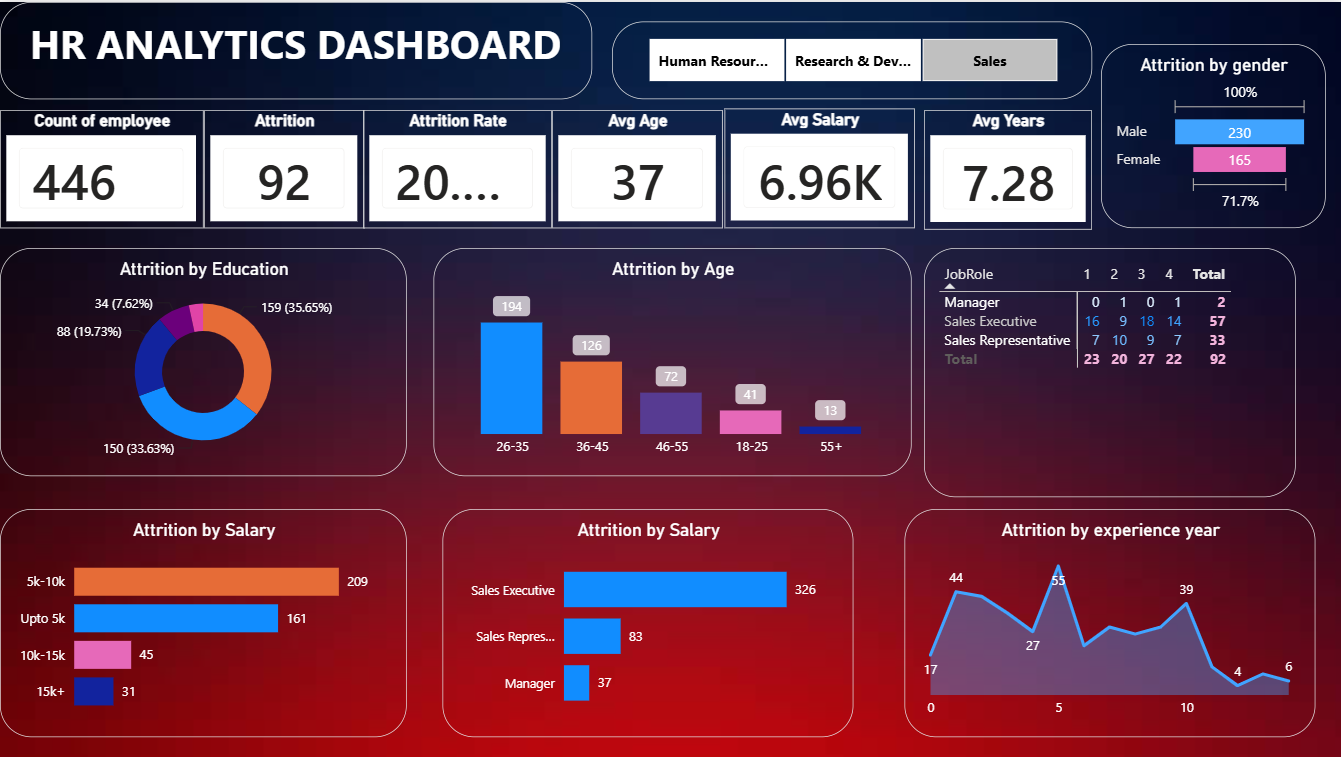

The dashboard page shown, as its layout file describes it:
{"tool":"powerbi","page":{"name":"Page 1","canvas":[1280,720],"ordinal":0},"visuals":[{"type":"cardVisual","title":"Count of employee","fields":{"Data":["CountNonNull(HR_Analytics.EmpID)"]},"box":[0,102.5,193.8,112.5],"z":0},{"type":"cardVisual","title":"Attrition","fields":{"Data":["Sum(HR_Analytics.attrition_count)"]},"box":[193.8,102.5,152.5,112.5],"z":1000},{"type":"cardVisual","title":"Attrition Rate","fields":{"Data":["HR_Analytics.attrition_rate","HR_Analytics.attrition_rate"]},"box":[346.2,102.5,180,112.5],"z":2000},{"type":"cardVisual","title":"Avg Age","fields":{"Data":["Avg(HR_Analytics.Age)"]},"box":[526.2,102.5,162.5,112.5],"z":3000},{"type":"cardVisual","title":"Avg Salary","fields":{"Data":["Avg(HR_Analytics.MonthlyIncome)"]},"box":[690,101.2,181.2,113.8],"z":4000},{"type":"cardVisual","title":"Avg Years","fields":{"Data":["Avg(HR_Analytics.YearsAtCompany)"]},"box":[880,102.5,160,113.8],"z":5000},{"type":"donutChart","title":"Attrition by Education","fields":{"Category":["HR_Analytics.EducationField"],"Y":["CountNonNull(HR_Analytics.Attrition)"]},"box":[0,233.8,387.5,217.5],"z":6000},{"type":"lineStackedColumnComboChart","title":"Attrition by Age","fields":{"Category":["HR_Analytics.AgeGroup"],"Y":["CountNonNull(HR_Analytics.Attrition)"]},"box":[412.5,233.8,455,217.5],"z":7000},{"type":"pivotTable","fields":{"Rows":["HR_Analytics.JobRole"],"Columns":["HR_Analytics.JobSatisfaction"],"Values":["Sum(HR_Analytics.attrition_count)"]},"box":[880,233.8,353.8,237.5],"z":8000},{"type":"barChart","title":"Attrition by Salary","fields":{"Category":["HR_Analytics.SalarySlab"],"Y":["CountNonNull(HR_Analytics.Attrition)"]},"box":[0,482.5,387.5,217.5],"z":9000},{"type":"barChart","title":"Attrition by Salary","fields":{"Category":["HR_Analytics.JobRole"],"Y":["CountNonNull(HR_Analytics.Attrition)"]},"box":[421.2,482.5,391.2,217.5],"z":10000},{"type":"areaChart","title":"Attrition by experience year","fields":{"Category":["HR_Analytics.YearsAtCompany"],"Y":["CountNonNull(HR_Analytics.Attrition)"]},"box":[861.2,482.5,391.2,217.5],"z":11000},{"type":"funnel","title":"Attrition by gender","fields":{"Category":["HR_Analytics.Gender"],"Y":["CountNonNull(HR_Analytics.Attrition)"]},"box":[1048.8,40,213.8,175],"z":12000},{"type":"slicer","fields":{"Values":["HR_Analytics.Department"]},"box":[582.5,18.8,457.5,73.8],"z":13000},{"type":"textbox","box":[0,0,563.8,92.5],"z":13001}]}

Visuals, with their boxes in screenshot pixels (x1, y1, x2, y2), scaled from the page's 1280x720 canvas onto the 1341x757 screenshot:
"Count of employee" cardVisual: left=0, top=108, right=203, bottom=226
"Attrition" cardVisual: left=203, top=108, right=363, bottom=226
"Attrition Rate" cardVisual: left=363, top=108, right=551, bottom=226
"Avg Age" cardVisual: left=551, top=108, right=722, bottom=226
"Avg Salary" cardVisual: left=723, top=106, right=913, bottom=226
"Avg Years" cardVisual: left=922, top=108, right=1090, bottom=227
"Attrition by Education" donutChart: left=0, top=246, right=406, bottom=474
"Attrition by Age" lineStackedColumnComboChart: left=432, top=246, right=909, bottom=474
pivotTable - HR_Analytics.JobRole x HR_Analytics.JobSatisfaction: left=922, top=246, right=1293, bottom=496
"Attrition by Salary" barChart: left=0, top=507, right=406, bottom=736
"Attrition by Salary" barChart: left=441, top=507, right=851, bottom=736
"Attrition by experience year" areaChart: left=902, top=507, right=1312, bottom=736
"Attrition by gender" funnel: left=1099, top=42, right=1323, bottom=226
slicer - HR_Analytics.Department: left=610, top=20, right=1090, bottom=97
textbox: left=0, top=0, right=591, bottom=97
